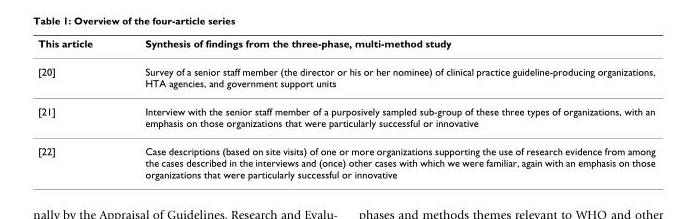table: (37, 36, 654, 180)
table column: (118, 36, 654, 180), (37, 36, 118, 180)
table column header: (37, 36, 654, 57)
table row: (37, 136, 654, 180), (37, 96, 654, 136), (37, 57, 654, 96), (37, 36, 654, 57)
